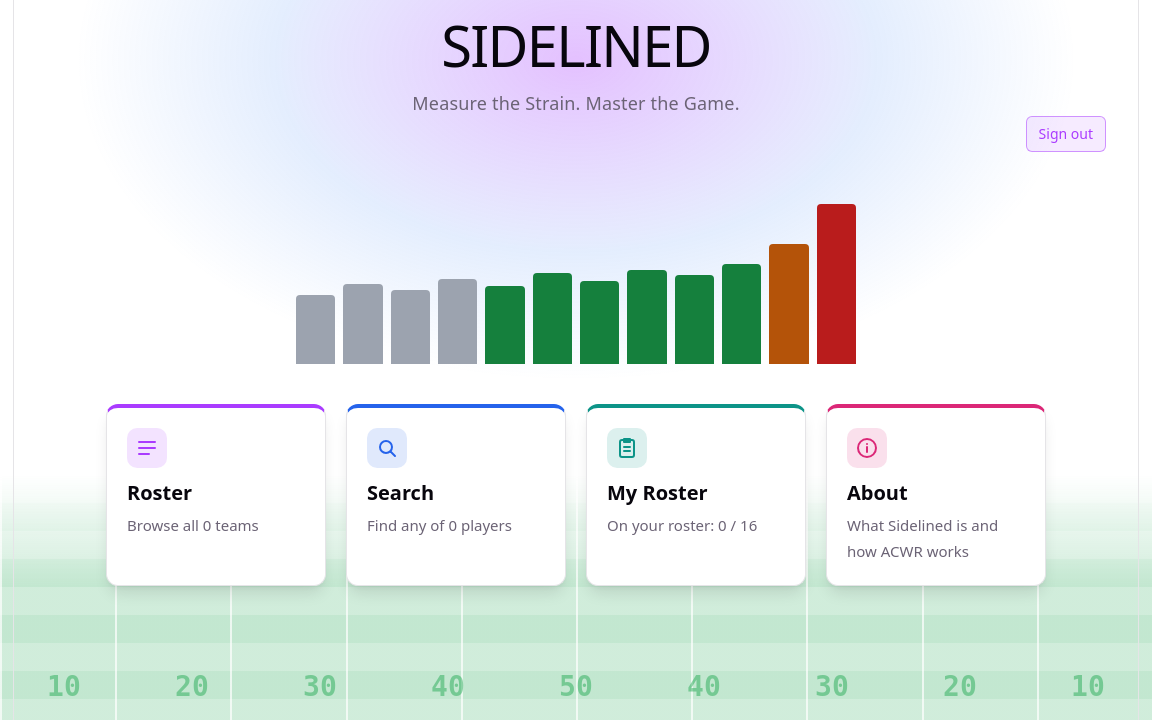
Test: navigation menu › is on a sub-page and opens on the first click
Click the button "Search Find any of 0 players" at (456, 495), box [346,404,566,586]
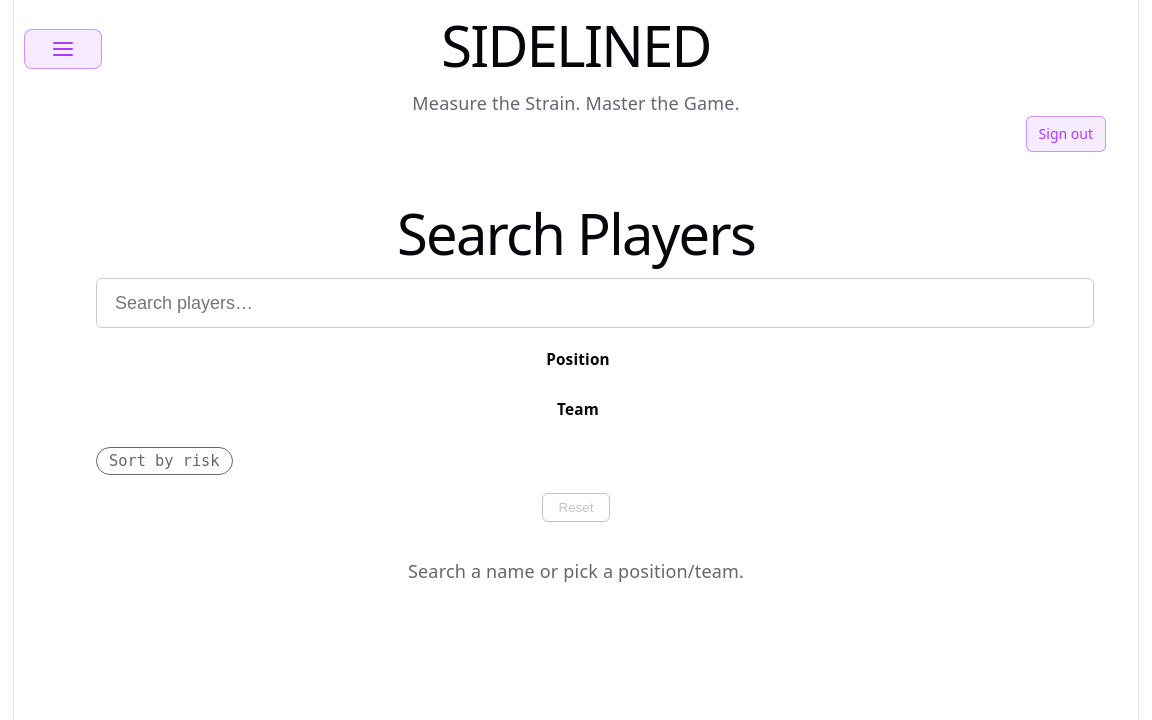
Click the button named "Toggle navigation menu" at (63, 49), box [24,29,102,69]
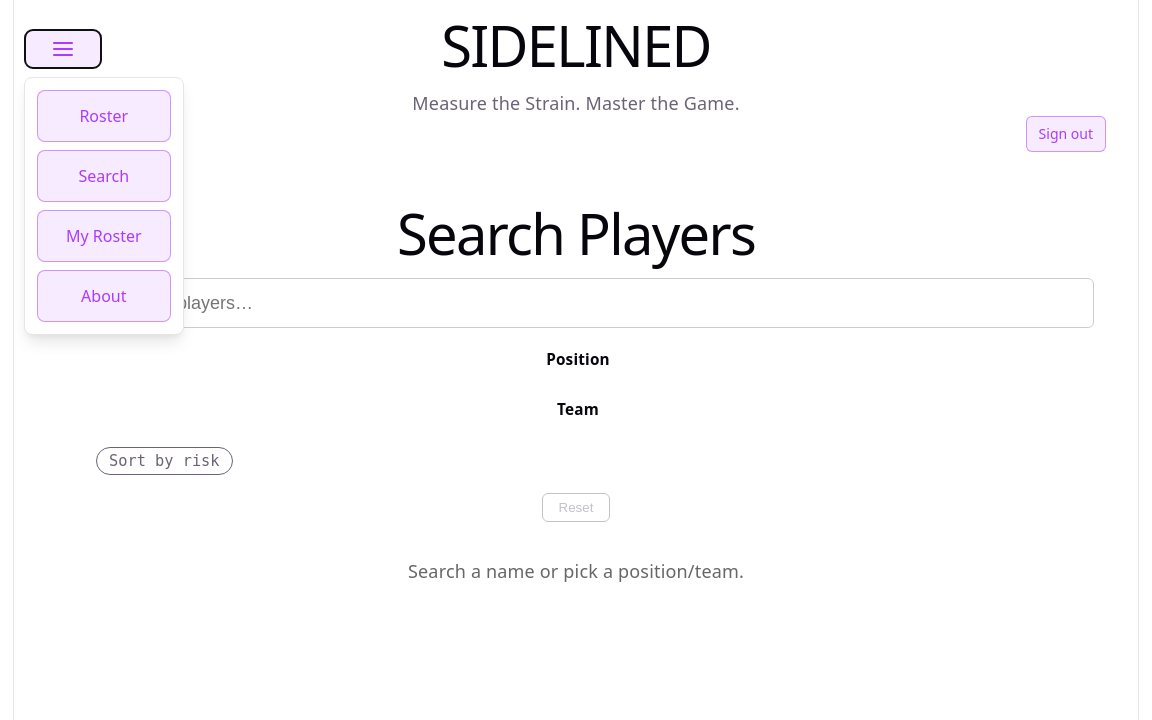
Result: the menu item "Roster" is shown at [37,90,170,142]
